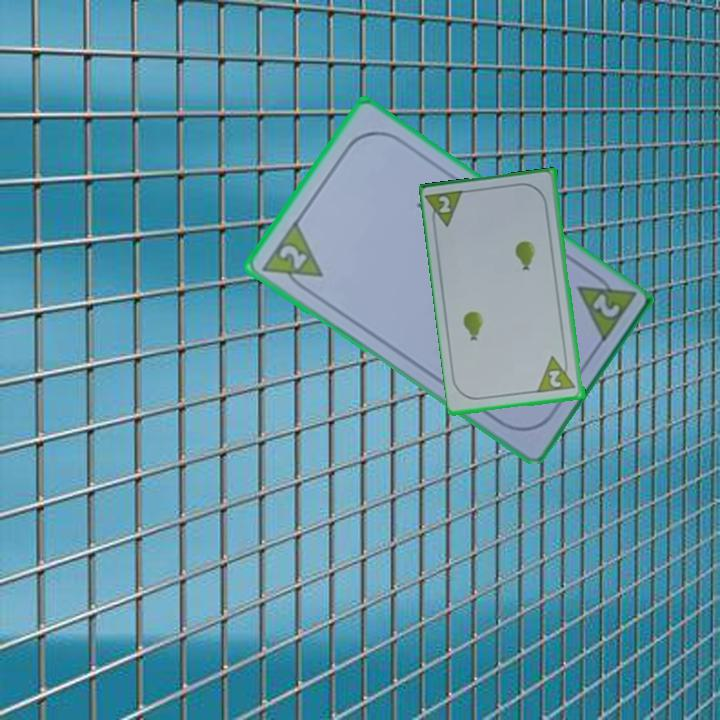2p: (257, 217, 325, 297), (424, 187, 469, 232), (588, 289, 622, 321), (546, 367, 565, 391)
